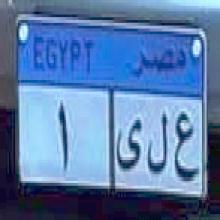1: (56, 95, 72, 173)
ain: (174, 108, 199, 187)
laam: (146, 104, 170, 183)
yaa: (115, 114, 144, 179)
